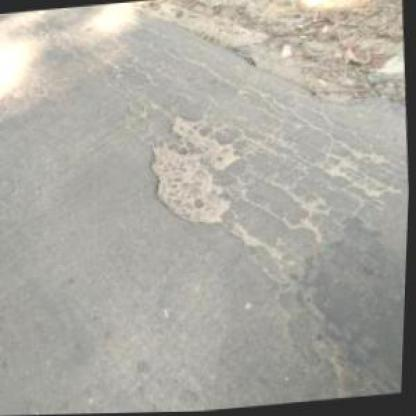pothole: (143, 110, 251, 232)
